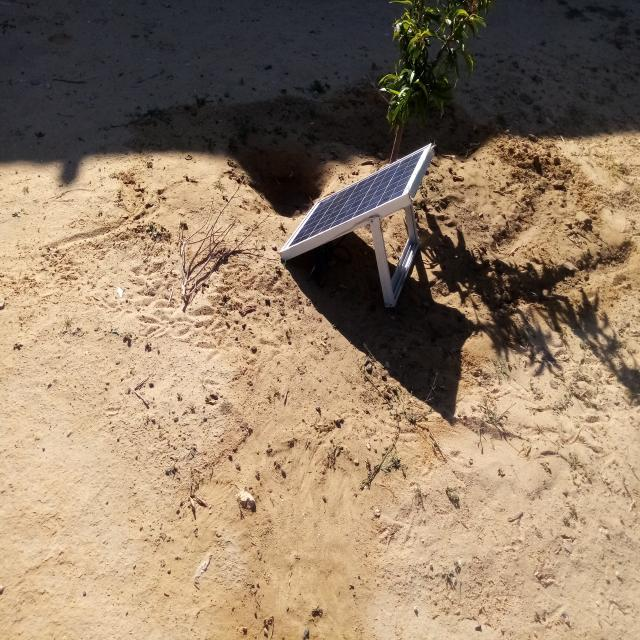no faulty: (280, 143, 432, 252)
